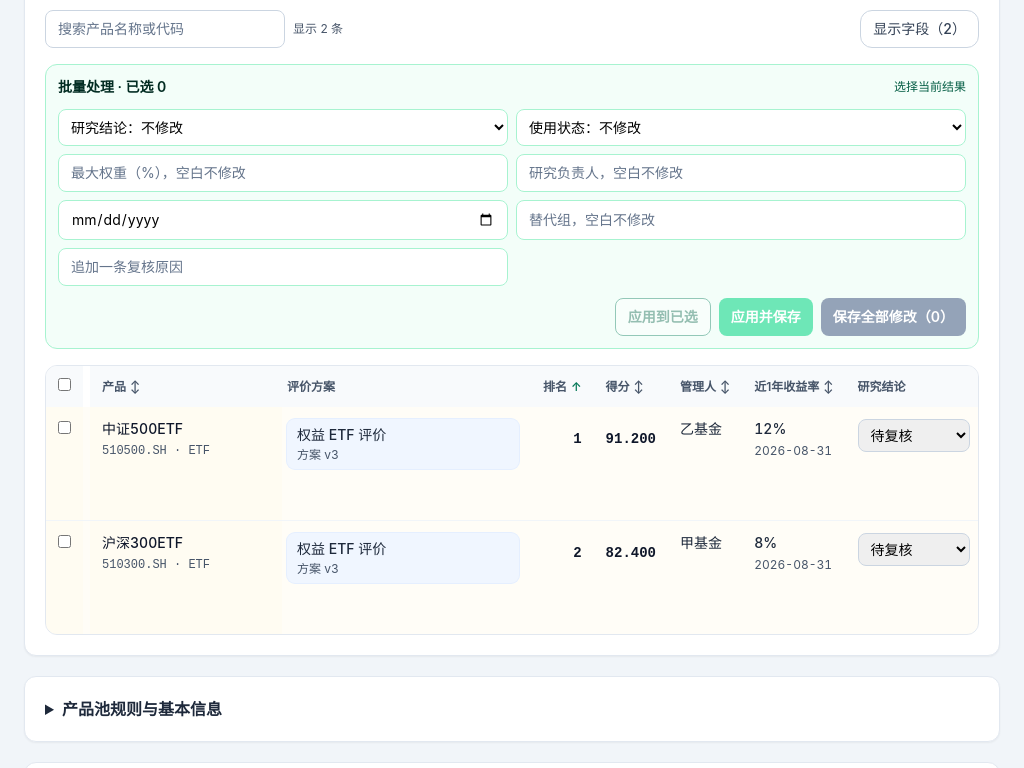
Test: ProductPools › 批量字段全部为已有值时视为幂等操作，不发无意义保存请求
(page scrolled)
Expected: the element with test id "candidate-review-scroll" is shown, [45,365,979,635]
Click the checkbox named "选择全部当前候选" at (64, 384), box [58,378,71,391]
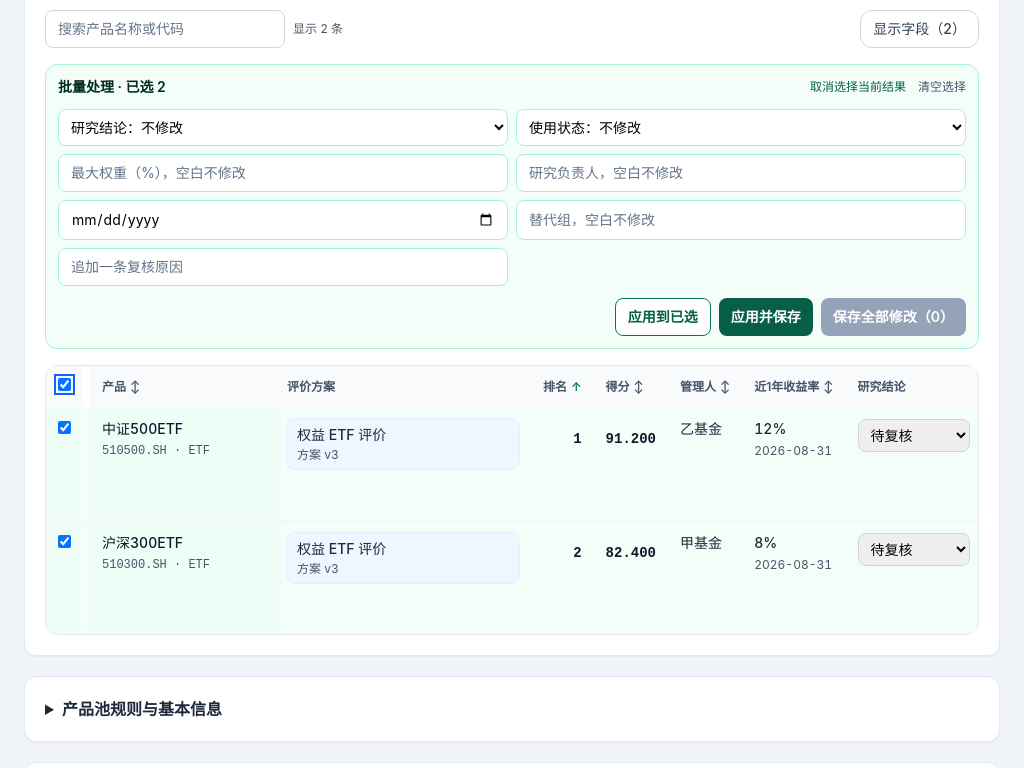
Select "正常使用" in the dropdown named "批量使用状态" at (741, 128), box [516,109,966,146]
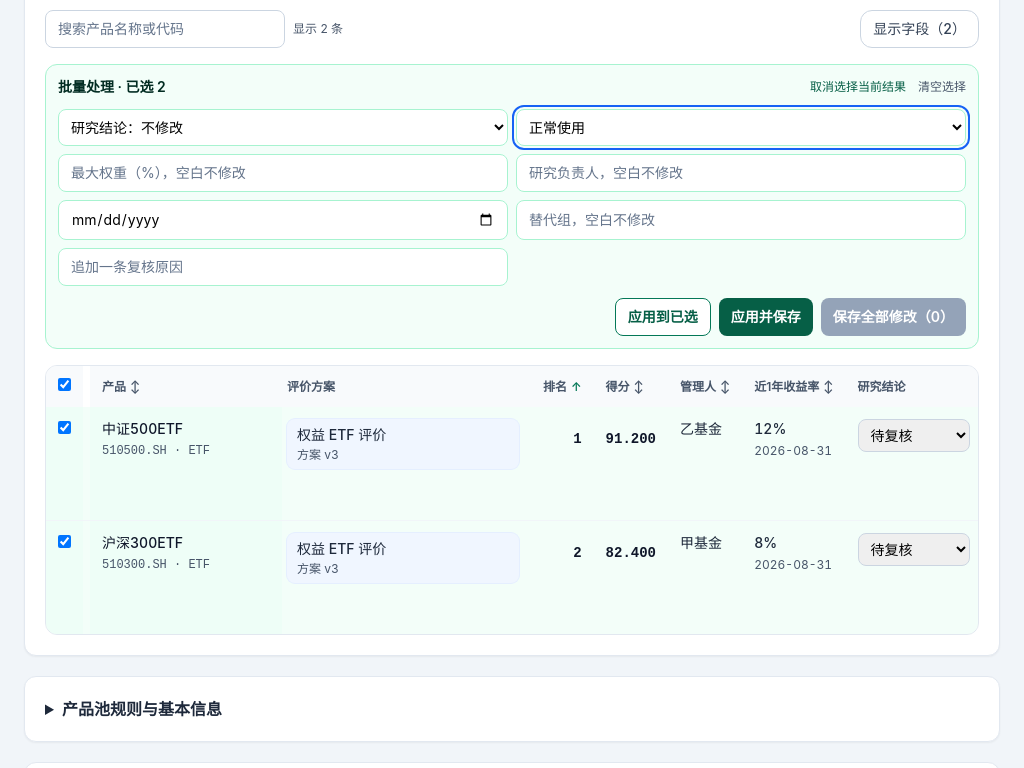
Click the button "应用并保存" at (766, 317), box [719,298,813,336]
(page scrolled)
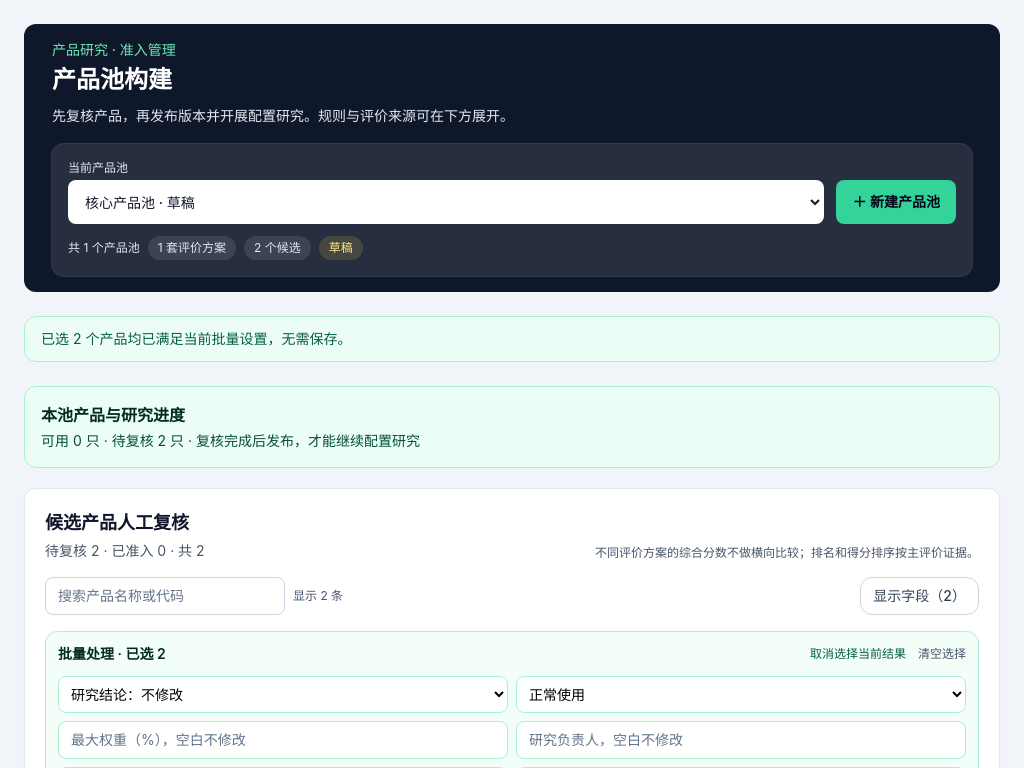
Result: the message reads "已选 2 个产品均已满足当前批量设置，无需保存。" at [41,330,351,347]
